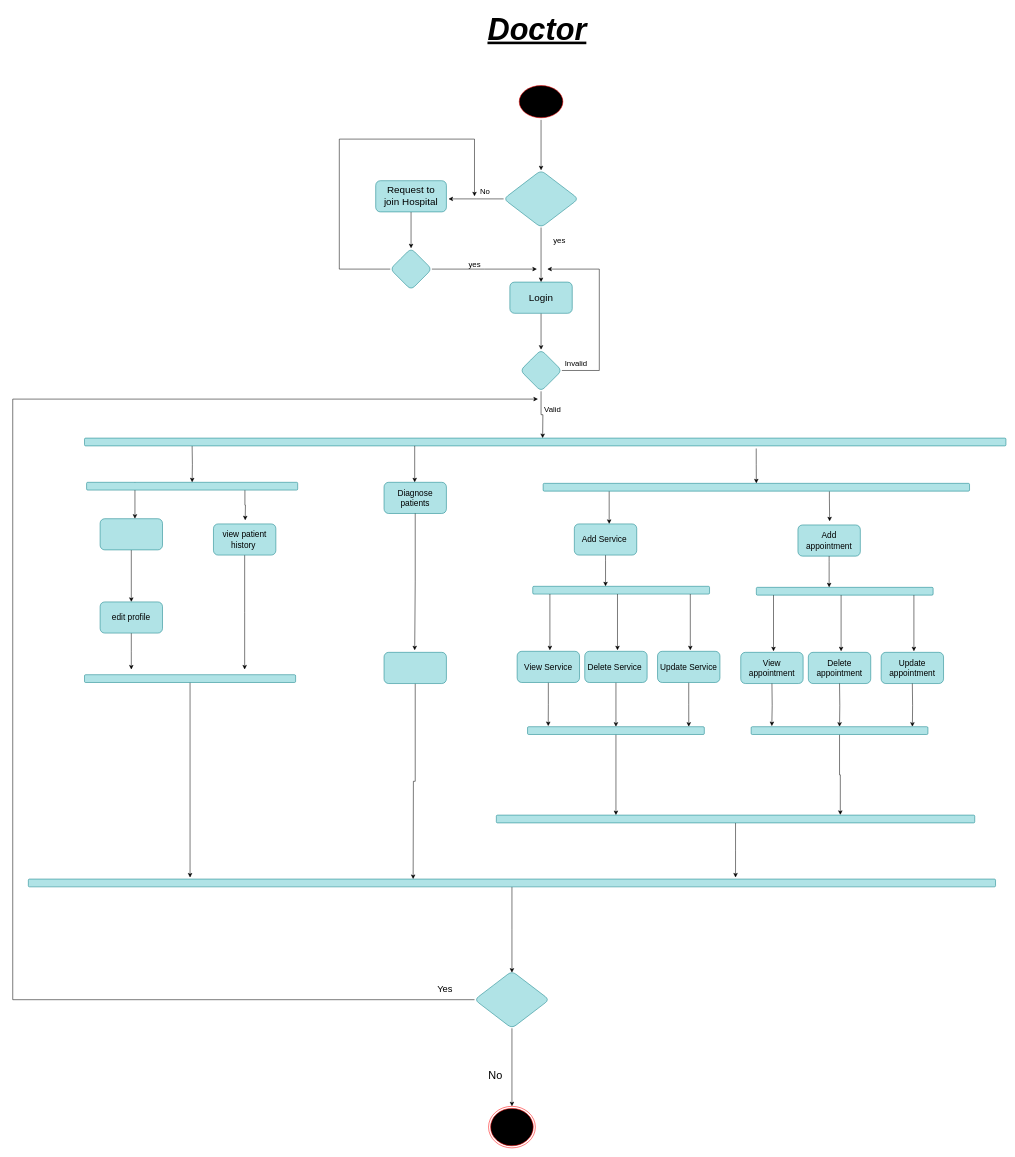
Image size: 1015x1157. Some labels were removed from this diagram. The shapes that lost their labels are listed below. From the top down, each one's centre as x and y in pixels, then its label:
At point (540, 199): "Have an account".
At point (411, 269): "Accept".
At point (541, 370): "check".
At point (131, 534): "view profile".
At point (415, 668): "Create Patient Prescription".
At point (511, 999): "Do something".
